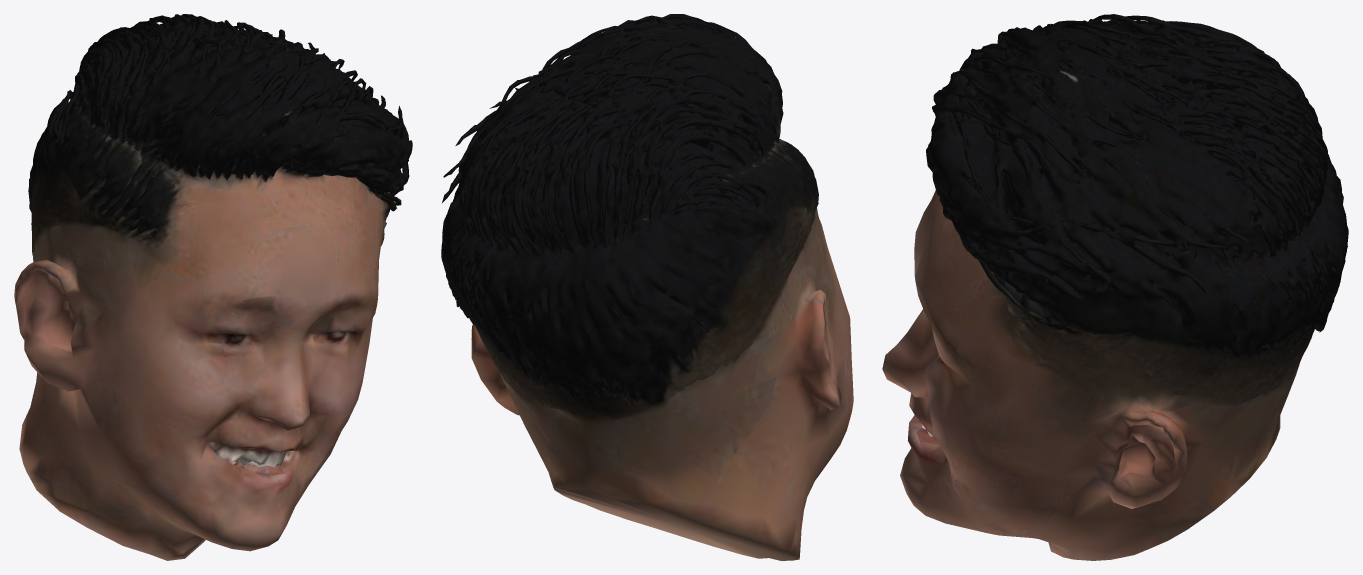
Rendered from head_justin.glb.
3 views of the same model, side by side, from view 1: azimuth 30°, elevation 25°; view 2: azimuth 150°, elevation 25°; view 3: azimuth 270°, elevation 25° (orthographic). The views are drawn at different scales.
Parts seen in each view (by area): view 1: Justin; view 2: Justin; view 3: Justin.
Part boxes in pixels (box(x1,y1,x2,y2)): Justin: box(14, 14, 412, 560); Justin: box(441, 14, 853, 560); Justin: box(882, 14, 1348, 560).
Size of the model in its own units: 0.2083 by 0.2749 by 0.2106.
1 material, 1 textured.
